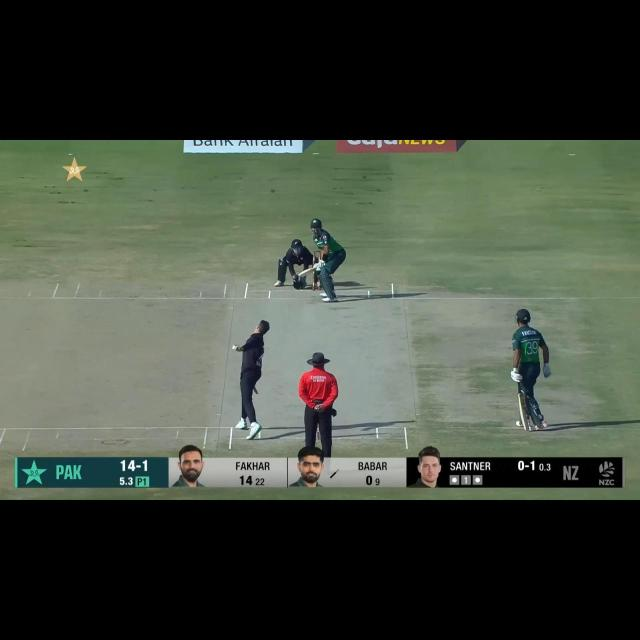bat: (517, 393, 530, 431), (298, 268, 313, 278)
toe: (521, 418, 530, 431), (298, 272, 306, 278)
